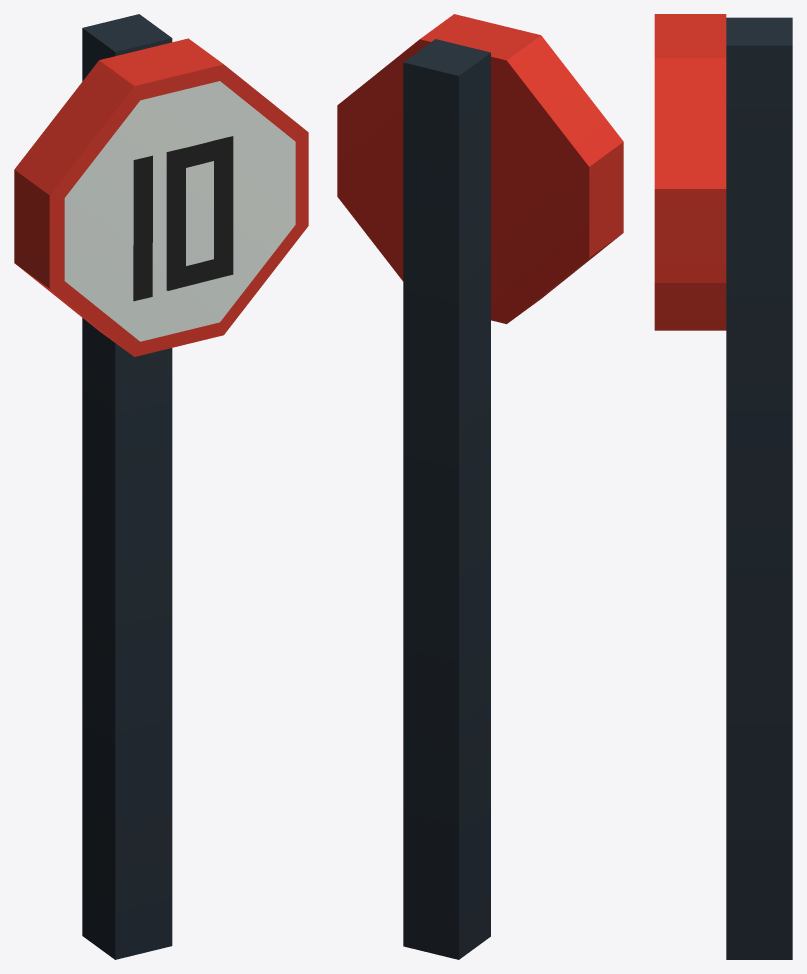
The model's file is Road_sign_max_Speed_10.fbx.
3 views of the same model, side by side, from view 1: azimuth 30°, elevation 25°; view 2: azimuth 150°, elevation 25°; view 3: azimuth 270°, elevation 25° (orthographic). The views are drawn at different scales.
Parts seen in each view (by area): view 1: Road_sign_max_Speed_10; view 2: Road_sign_max_Speed_10; view 3: Road_sign_max_Speed_10.
Boxes of the visible parts, x1,y1,x2,y2 form: Road_sign_max_Speed_10: (14,14,308,959); Road_sign_max_Speed_10: (337,14,623,959); Road_sign_max_Speed_10: (654,14,792,959).
Bounding box in the file's own units: 107 × 359 × 49.94.
